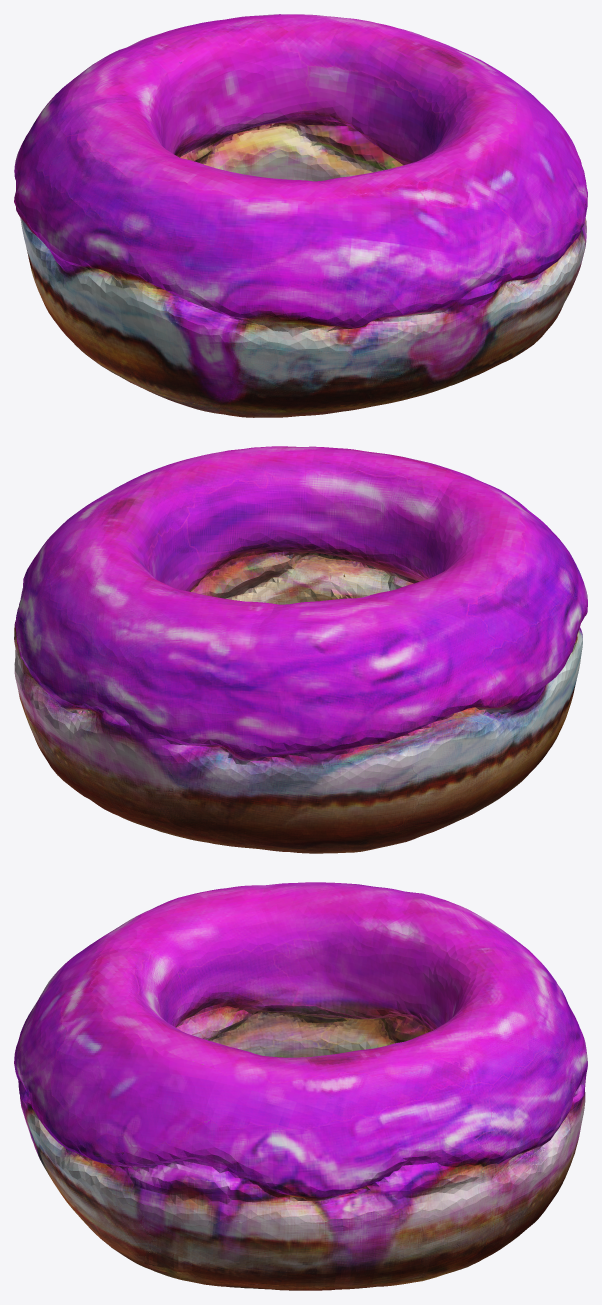
The model's file is a donut with pink icing.glb.
3 views of the same model, one above another, from view 1: azimuth 30°, elevation 25°; view 2: azimuth 150°, elevation 25°; view 3: azimuth 270°, elevation 25° (orthographic).
Size of the model in its own units: 0.9893 by 0.4513 by 0.9937.
1 material, 1 textured.
